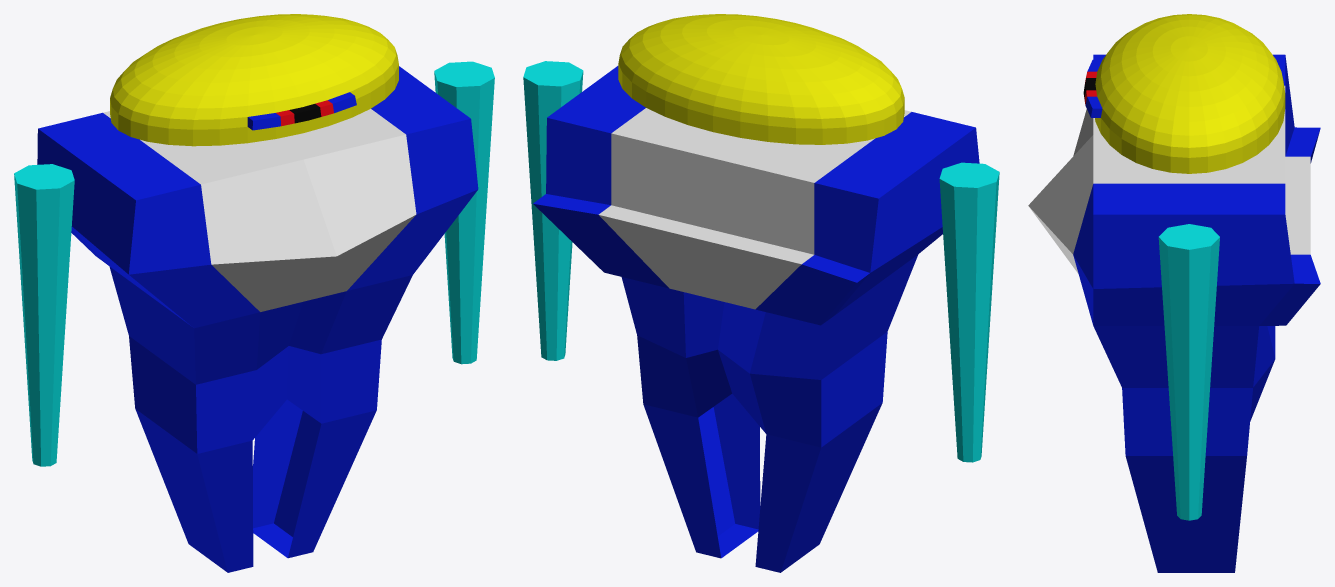
The model's file is Robot Body.fbx.
The picture shows the model from 3 angles, left to right: view 1: azimuth 30°, elevation 25°; view 2: azimuth 150°, elevation 25°; view 3: azimuth 270°, elevation 25°; orthographic projection. The views are drawn at different scales.
Visible parts, largest first — view 1: Robot; view 2: Robot; view 3: Robot.
Boxes of the visible parts, x1,y1,x2,y2 form: Robot: (14,14,494,572); Robot: (523,14,999,572); Robot: (1028,14,1320,572).
Size of the model in its own units: 349 by 362 by 190.
